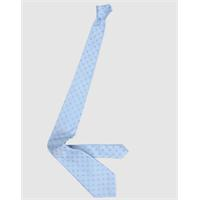tie: (48, 4, 128, 198)
